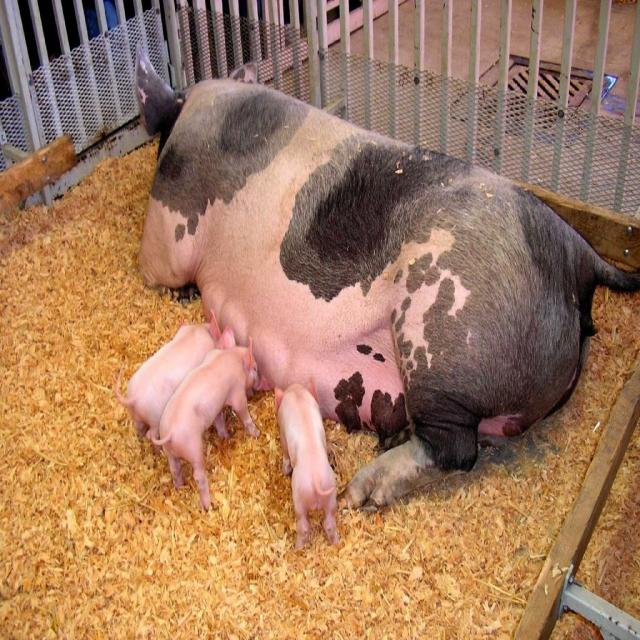Pig: (134, 39, 640, 556)
